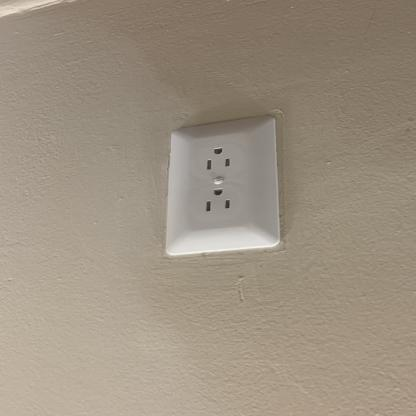OUTLET: (164, 112, 282, 258)
